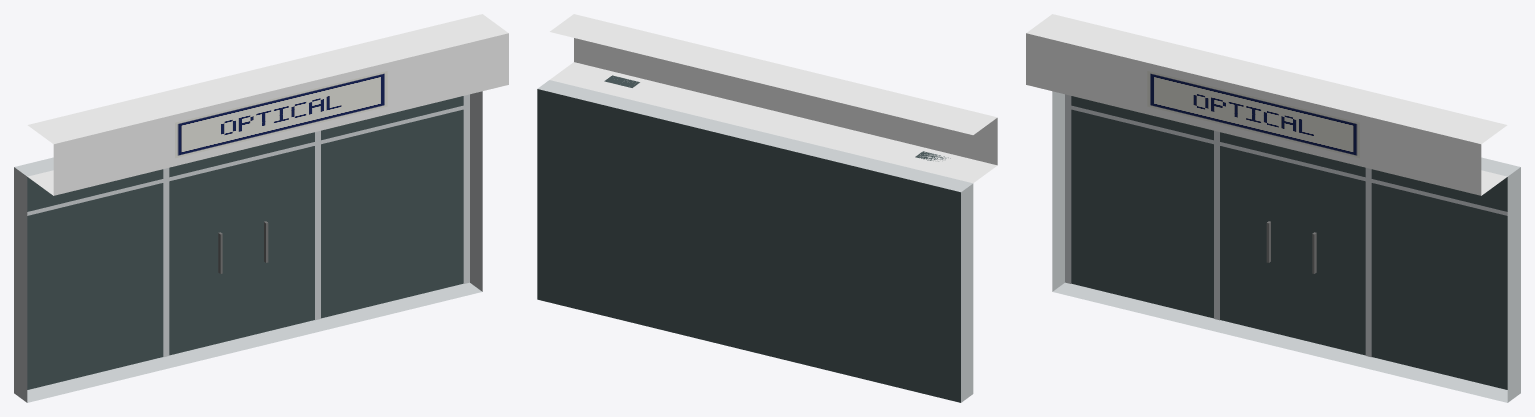
Rendered from base-w1_close.fbx.
3 views of the same model, side by side, from view 1: azimuth 30°, elevation 25°; view 2: azimuth 150°, elevation 25°; view 3: azimuth 330°, elevation 25° (orthographic). The views are drawn at different scales.
Visible parts, largest first — view 1: a2009/400/base-w1_close; view 2: a2009/400/base-w1_close; view 3: a2009/400/base-w1_close.
Part boxes in pixels (x1,y1,x2,y2): a2009/400/base-w1_close: (14, 14, 508, 402); a2009/400/base-w1_close: (537, 14, 997, 402); a2009/400/base-w1_close: (1026, 14, 1520, 402).
Size of the model in its own units: 6 by 3.5 by 0.902.
